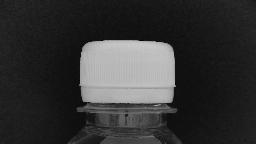Good Cap: (74, 36, 182, 120)
